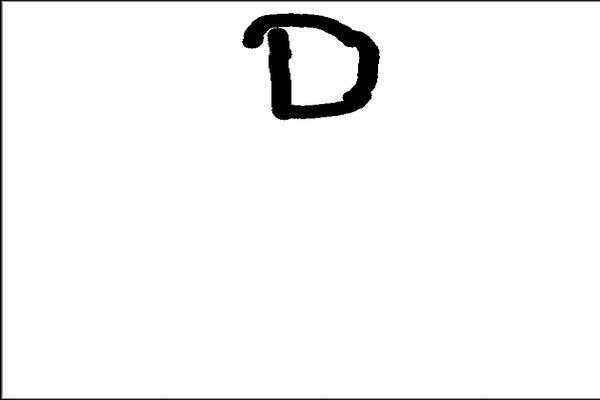D: (238, 7, 382, 125)
